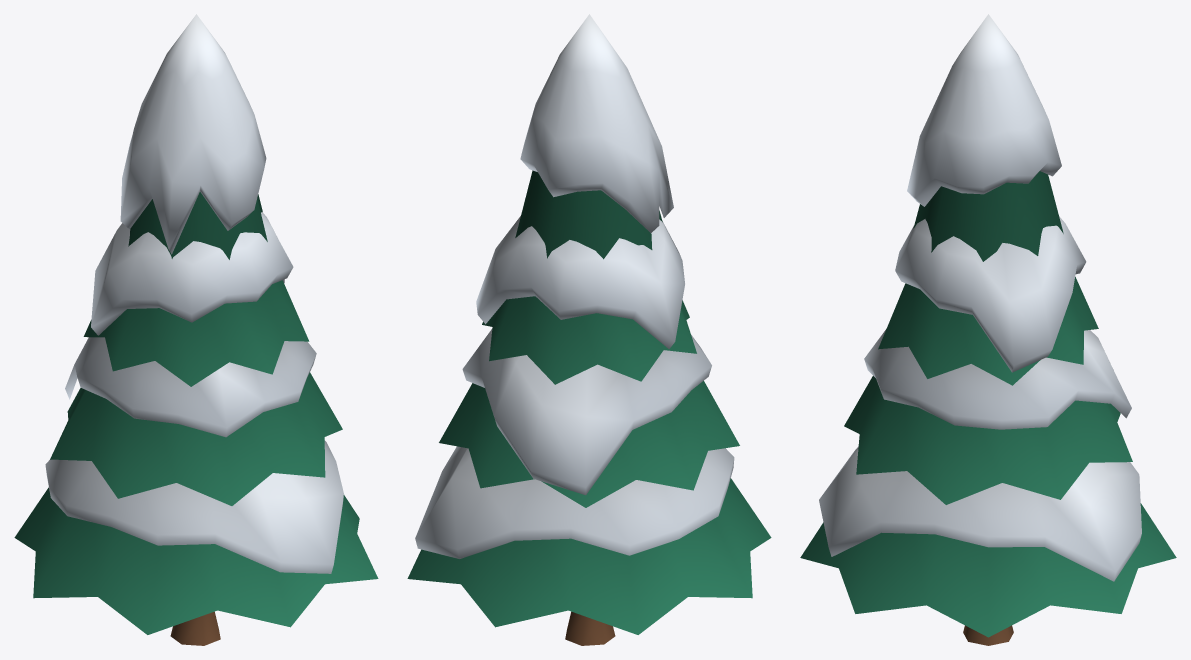
Rendered from snow-pine.glb.
The picture shows the model from 3 angles, left to right: view 1: azimuth 30°, elevation 25°; view 2: azimuth 150°, elevation 25°; view 3: azimuth 270°, elevation 25°; orthographic projection.
Visible parts, largest first — view 1: Snow pine Pine snow, Snow pine Pine needles, Snow pine Pine trunk; view 2: Snow pine Pine snow, Snow pine Pine needles, Snow pine Pine trunk; view 3: Snow pine Pine snow, Snow pine Pine needles, Snow pine Pine trunk.
Part boxes in pixels (x1,y1,x2,y2): Snow pine Pine snow: [45, 14, 343, 573]; Snow pine Pine needles: [14, 192, 378, 634]; Snow pine Pine trunk: [170, 611, 220, 645]; Snow pine Pine snow: [415, 14, 734, 558]; Snow pine Pine needles: [407, 170, 771, 634]; Snow pine Pine trunk: [565, 611, 615, 645]; Snow pine Pine snow: [819, 14, 1141, 581]; Snow pine Pine needles: [800, 171, 1176, 637]; Snow pine Pine trunk: [963, 625, 1013, 645].
Bounding box in the file's own units: 3.9 × 7.09 × 3.9.
